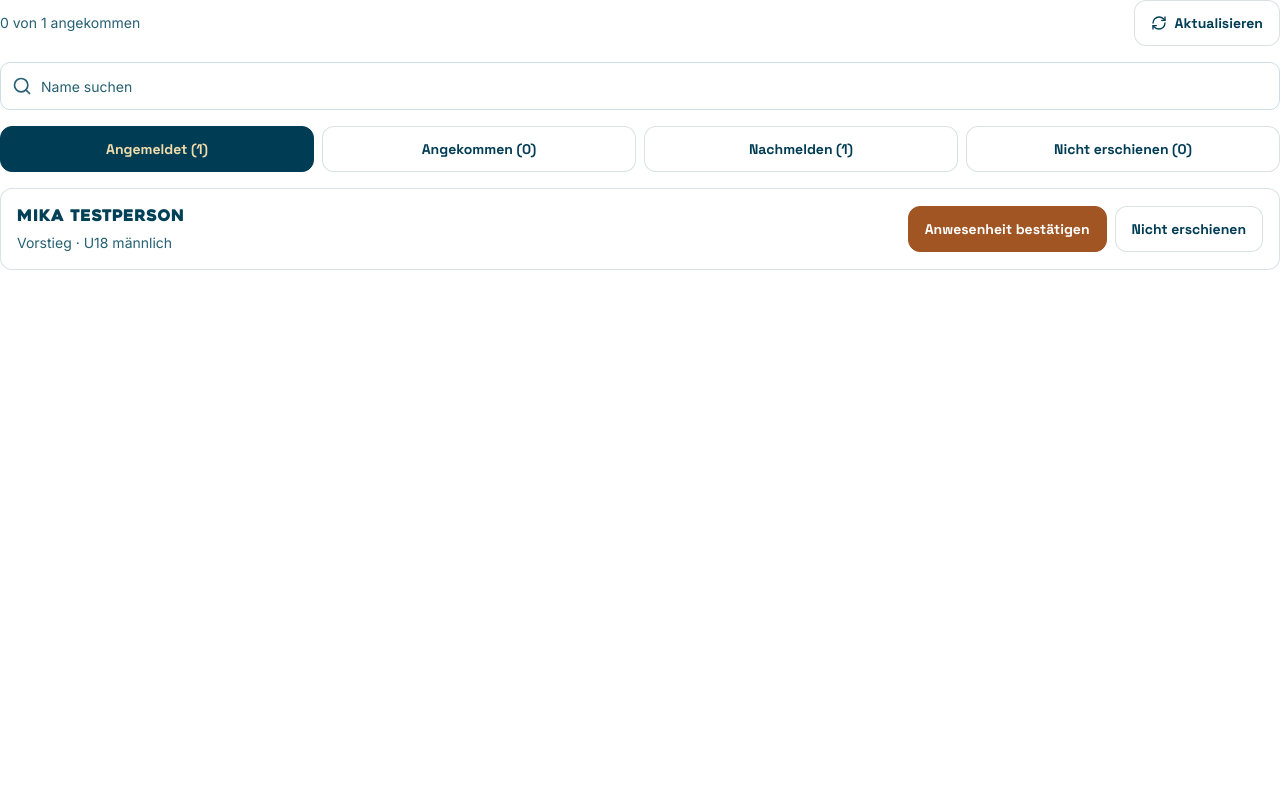
Test: event attendance desk › shows an explicit conflict and reloads instead of silently overwriting
Later steps or results of the test are not shown.
Click the button with aria-label "Anwesenheit von Mika Testperson bestätigen".
click(1007, 229)  # box [908,206,1107,252]
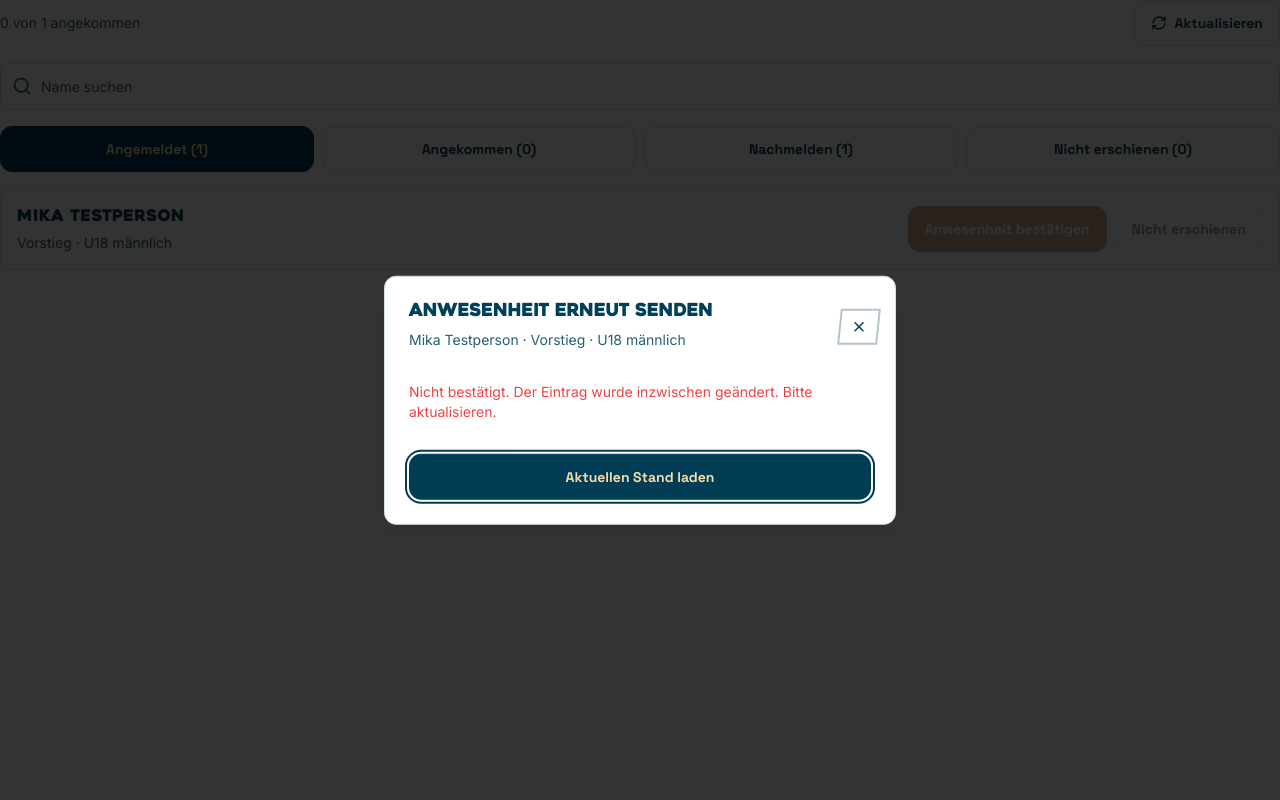
Check: the message shows "inzwischen geändert", box [409,382,812,419]
